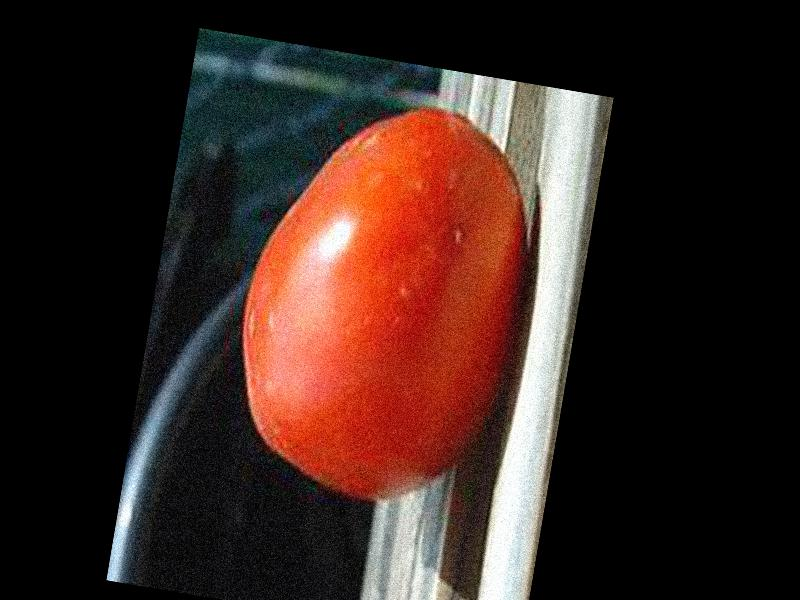Tomato: (217, 81, 548, 516)
